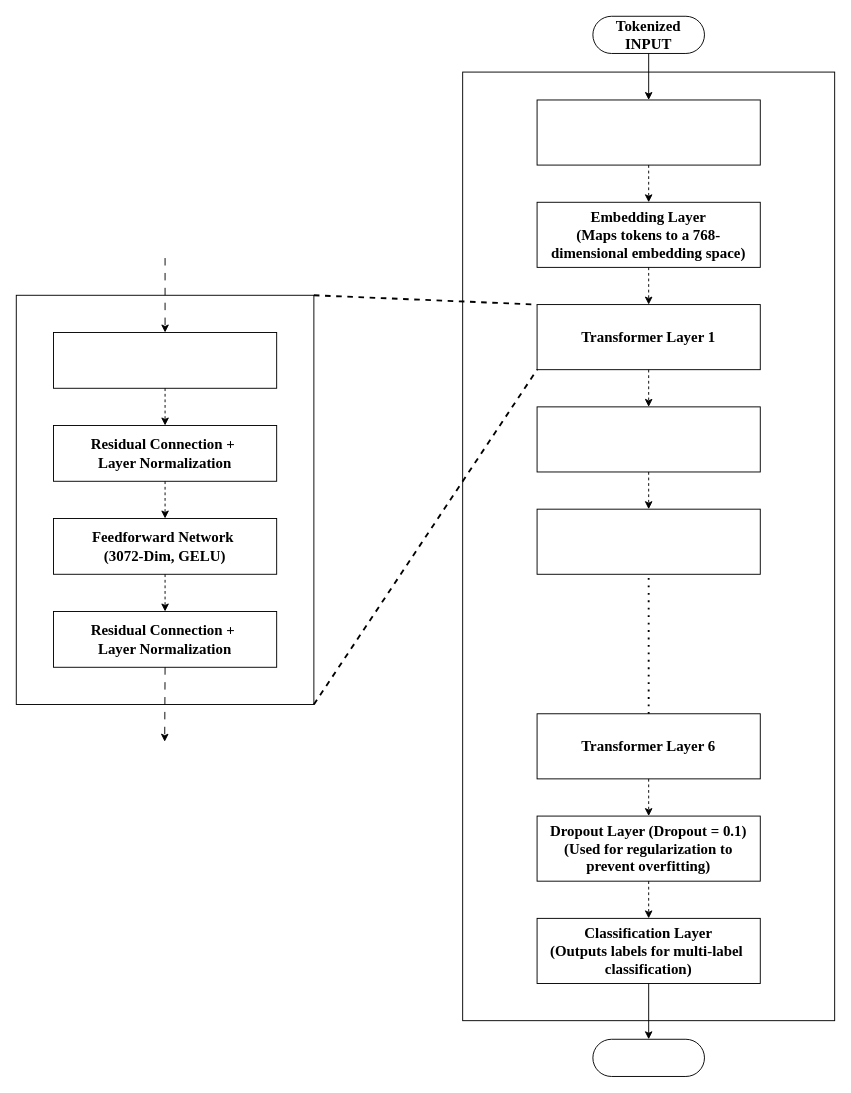
Some shapes in this 851 by 1093 pixel diagram are drawn without their labels. The centre of each missing label's shape, as x and y in pixels:
"INPUT LAYER (Accepts Tokenized Inputs)" belongs at pixel 648 132.
"OUTPUT" belongs at pixel 648 1057.
"Self-Attention Mechanism" belongs at pixel 165 360.
"Transformer Layer 2" belongs at pixel 648 439.
"Transformer Layer 3" belongs at pixel 648 541.
